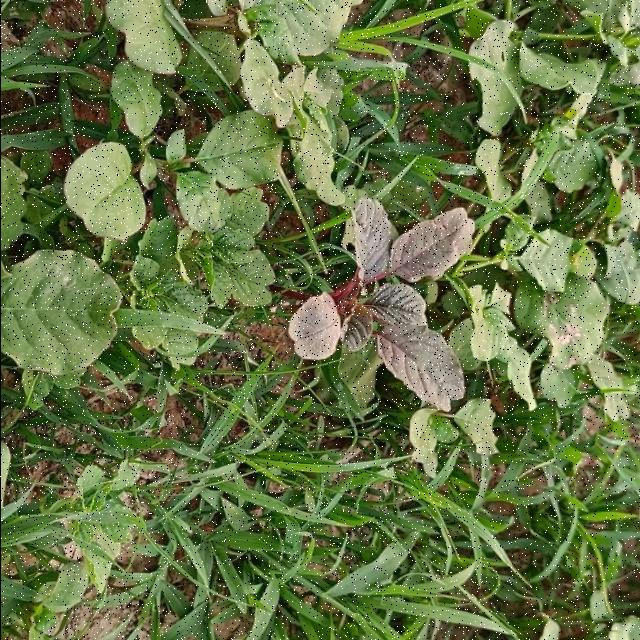plant: (288, 197, 471, 410)
